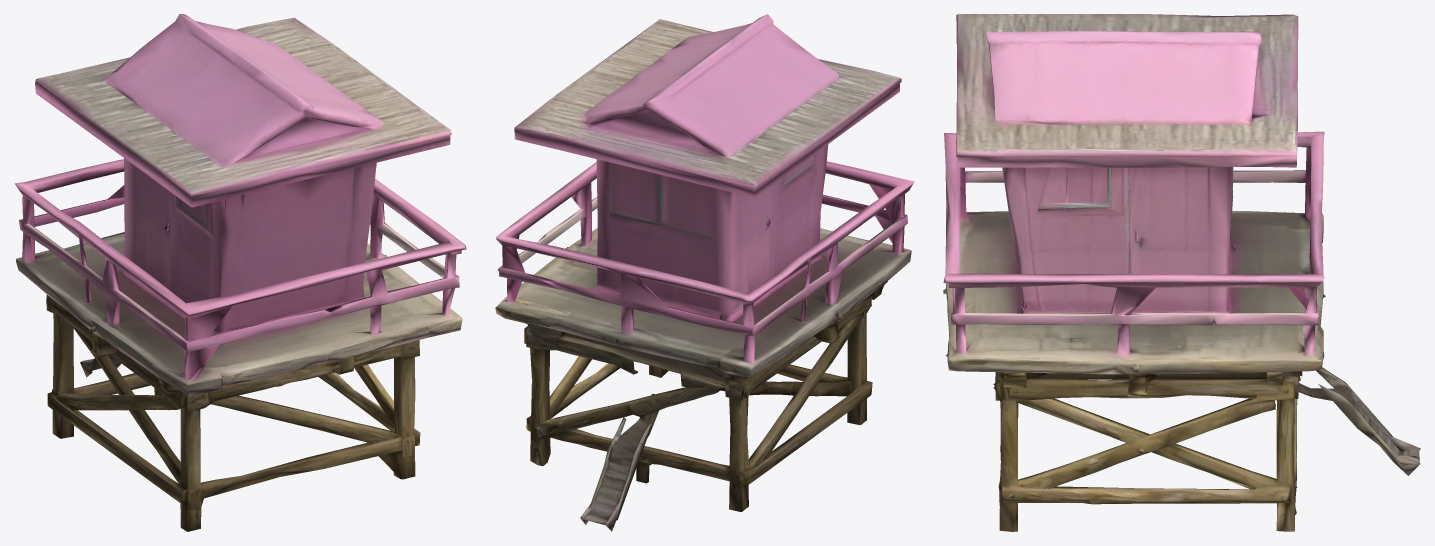
Rendered from lifeguard_tower.glb.
3 views of the same model, side by side, from view 1: azimuth 30°, elevation 25°; view 2: azimuth 150°, elevation 25°; view 3: azimuth 270°, elevation 25° (orthographic). The views are drawn at different scales.
Parts seen in each view (by area): view 1: tripo_node_f93aa7c9-d822-4743-9381-5e071e0f0fdc; view 2: tripo_node_f93aa7c9-d822-4743-9381-5e071e0f0fdc; view 3: tripo_node_f93aa7c9-d822-4743-9381-5e071e0f0fdc.
Part boxes in pixels (box(x1,y1,x2,y2)): tripo_node_f93aa7c9-d822-4743-9381-5e071e0f0fdc: box(14, 14, 466, 531); tripo_node_f93aa7c9-d822-4743-9381-5e071e0f0fdc: box(495, 14, 914, 531); tripo_node_f93aa7c9-d822-4743-9381-5e071e0f0fdc: box(943, 14, 1420, 531).
Size of the model in its own units: 0.7472 by 0.9822 by 0.9576.
Materials: 1 (1 with a texture image).
